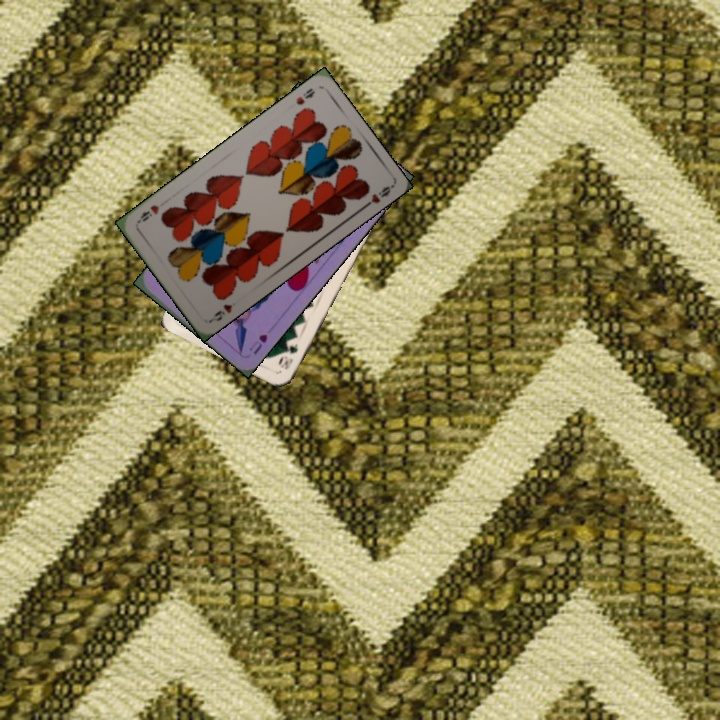G10: (275, 339, 301, 372)
H9: (206, 300, 235, 324), (292, 84, 318, 108)
HU: (245, 330, 270, 357)
